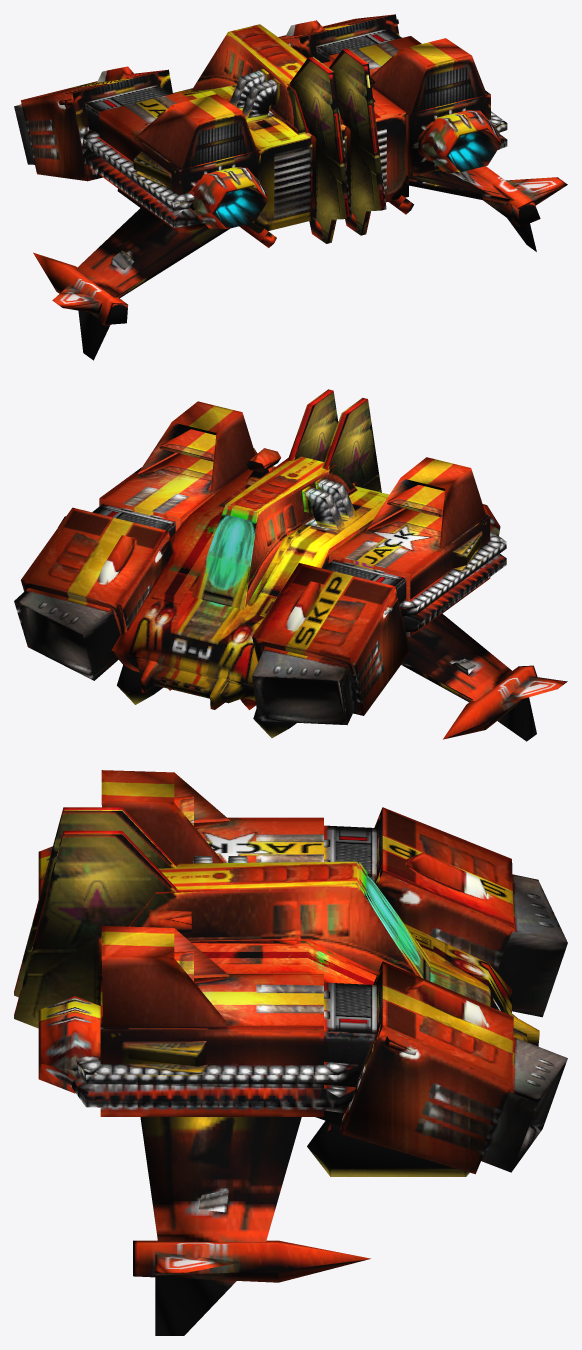
File: skipjack.glb
3 renders of one model, top to bottom at view 1: azimuth 30°, elevation 25°; view 2: azimuth 150°, elevation 25°; view 3: azimuth 270°, elevation 25°, orthographic. The views are drawn at different scales.
Parts seen in each view (by area): view 1: pla_skipjack; view 2: pla_skipjack; view 3: pla_skipjack.
Boxes of the visible parts, left/top/right/bottom form: pla_skipjack: left=14, top=14, right=567, bottom=360; pla_skipjack: left=14, top=389, right=567, bottom=741; pla_skipjack: left=14, top=770, right=567, bottom=1335.
Size of the model in its own units: 10.72 by 5.31 by 7.31.
4 materials, 4 textured.
